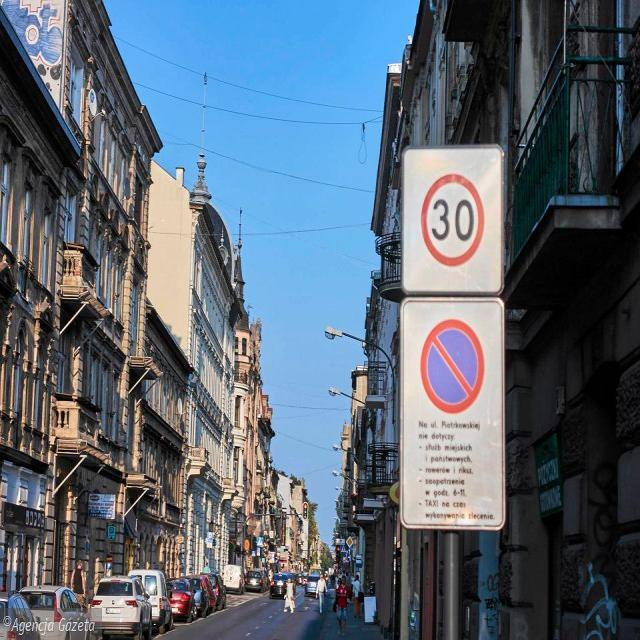Speed Limit -30-: (431, 196, 475, 243)
